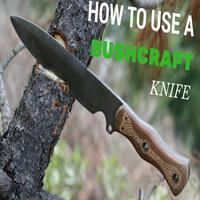knife: (8, 13, 189, 183)
